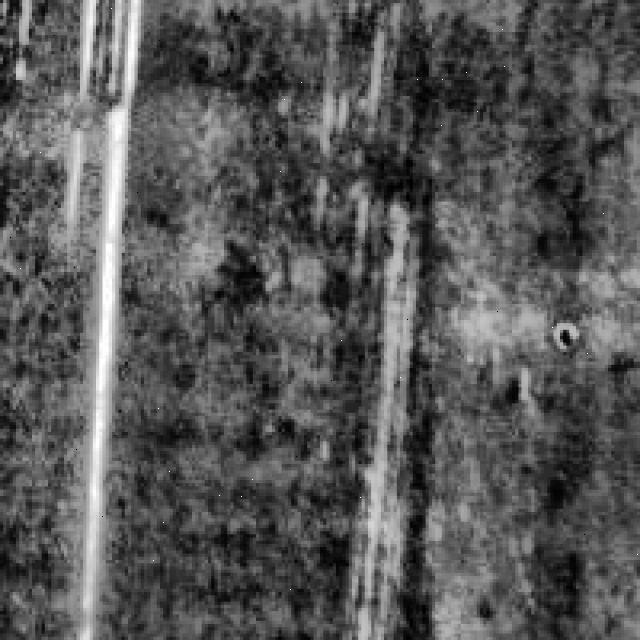Inclusion: (64, 0, 141, 637)
